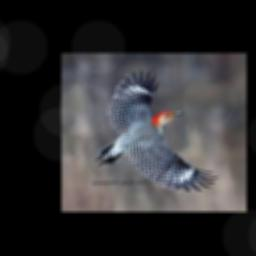Woodpecker: (95, 69, 218, 193)
